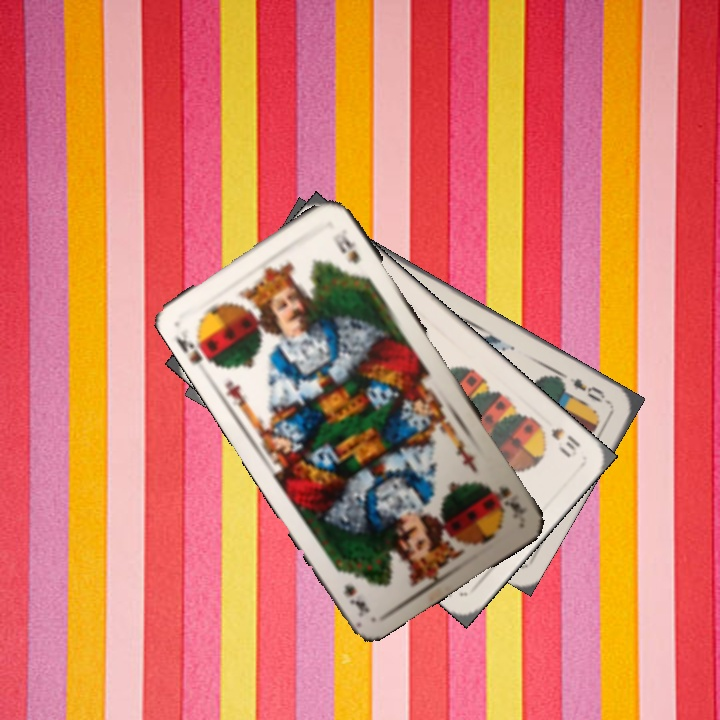EO: (565, 373, 613, 407)
S10: (534, 418, 583, 460)
SK: (172, 331, 219, 368), (491, 482, 531, 521)
